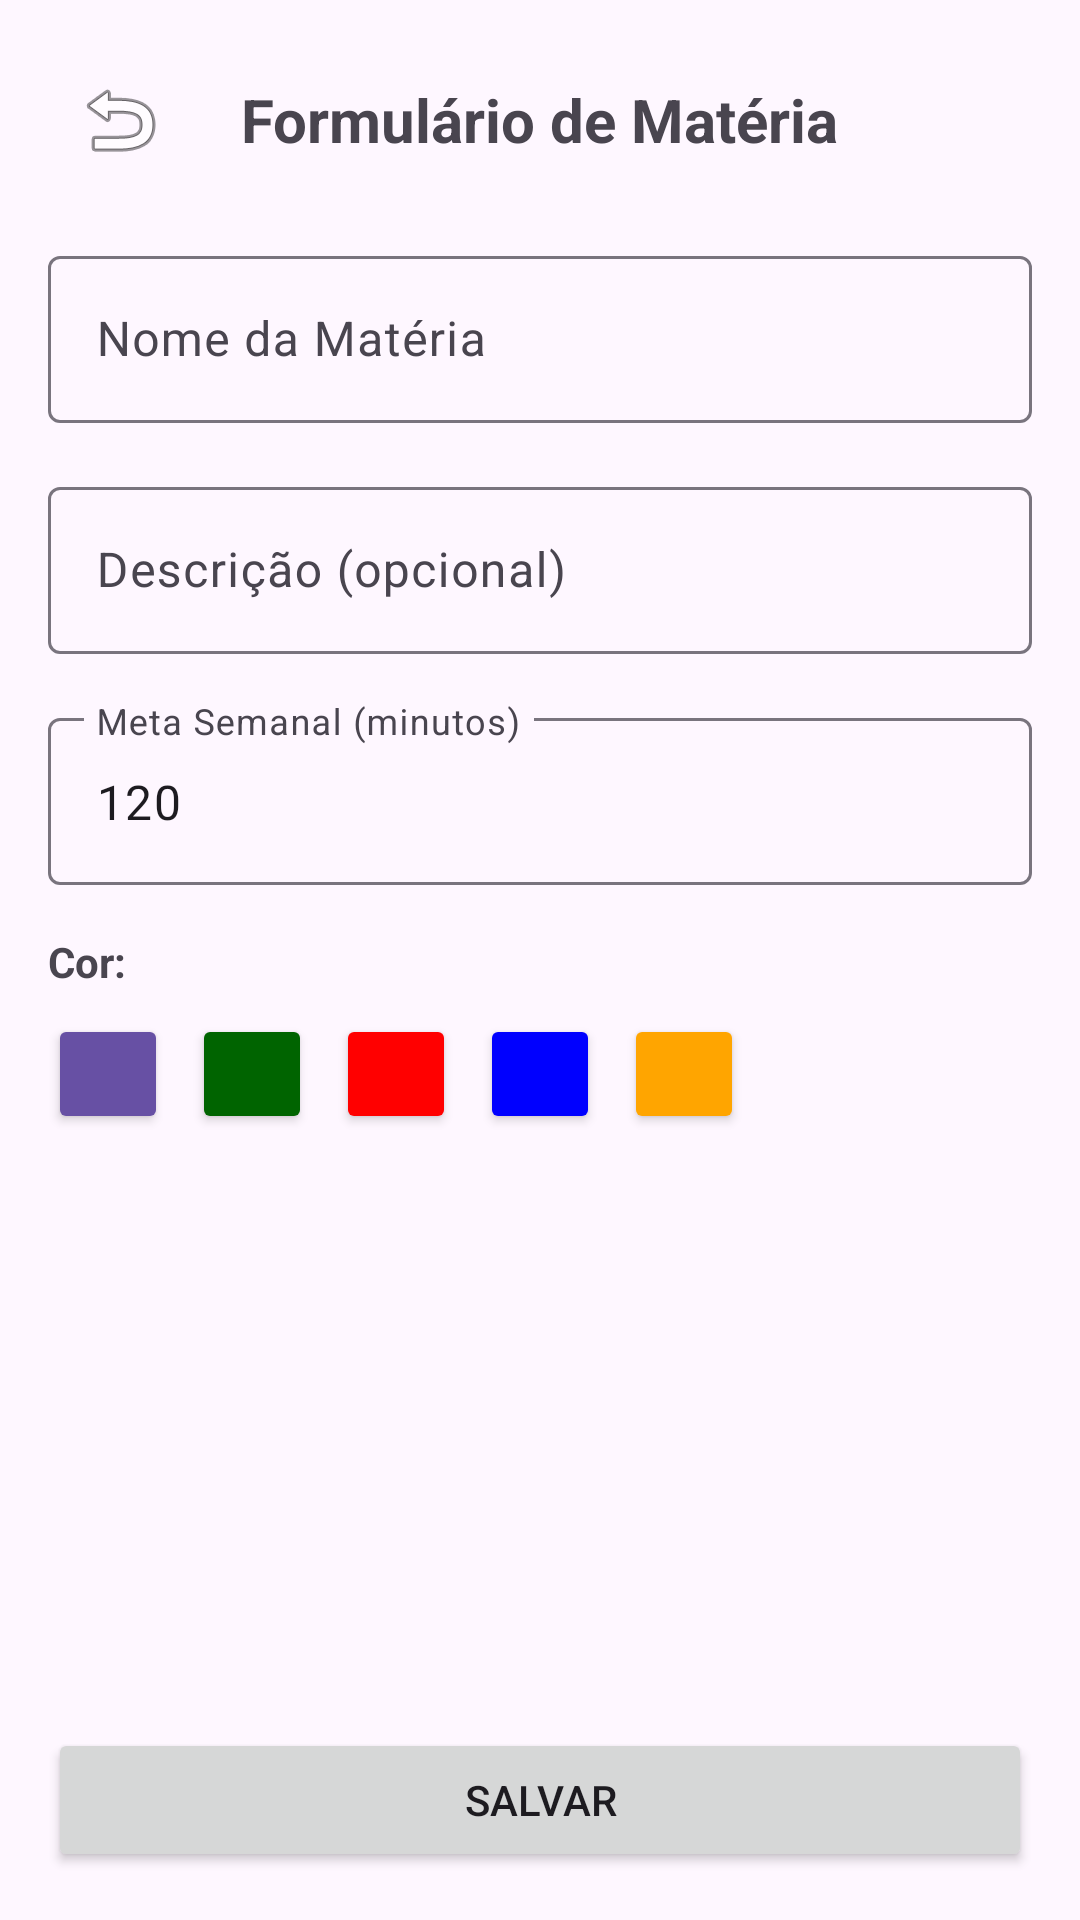

Where to tap for icons on this 1080 × 1920 app screen, as (x,y):
Voltar: (121,120)
